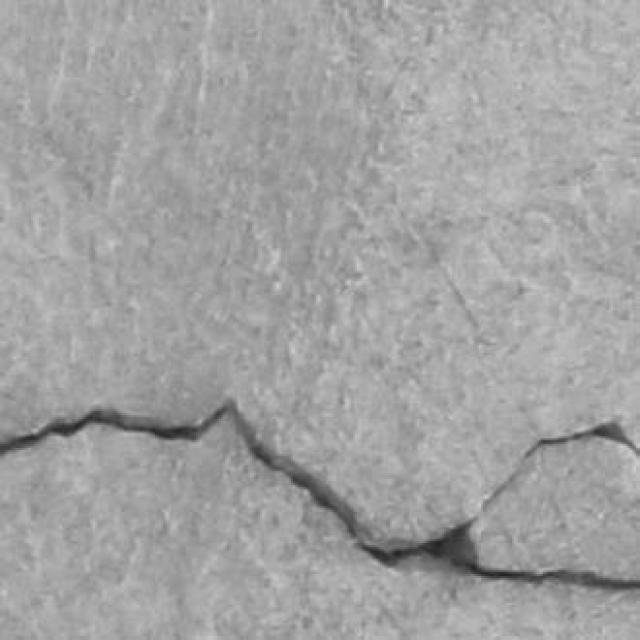crack: (0, 400, 639, 591)
